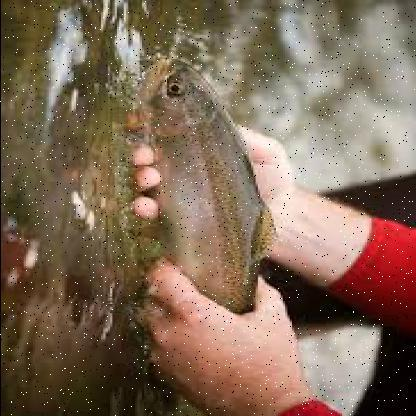fish: (119, 53, 274, 405)
